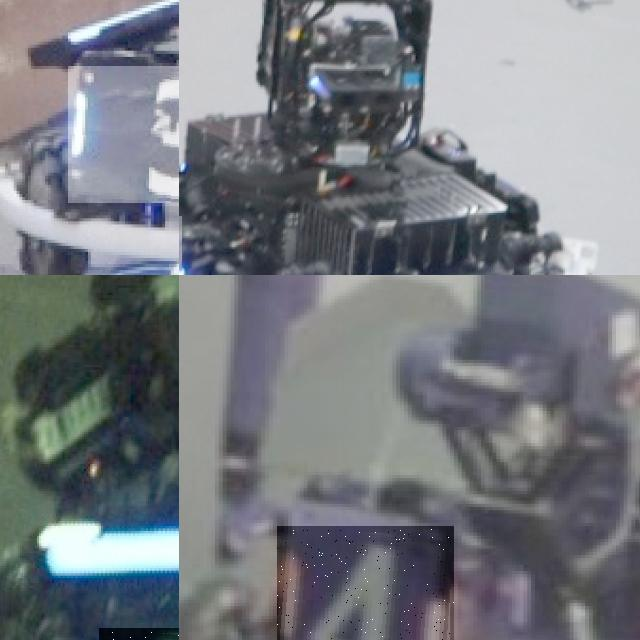B3: (68, 66, 179, 203)
R4: (276, 526, 454, 640)
